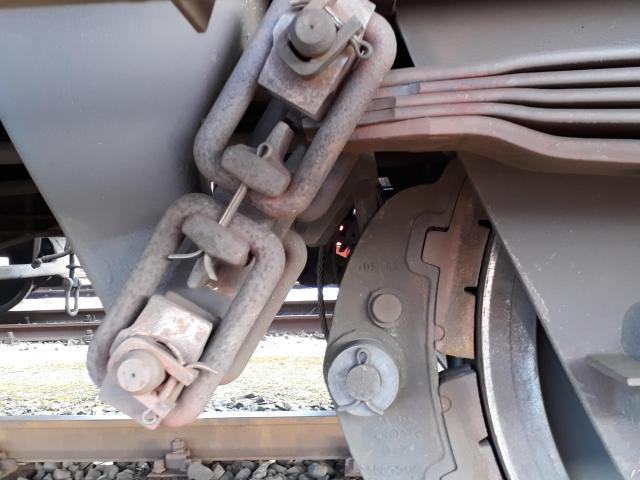blattfederww: (305, 45, 640, 171)
